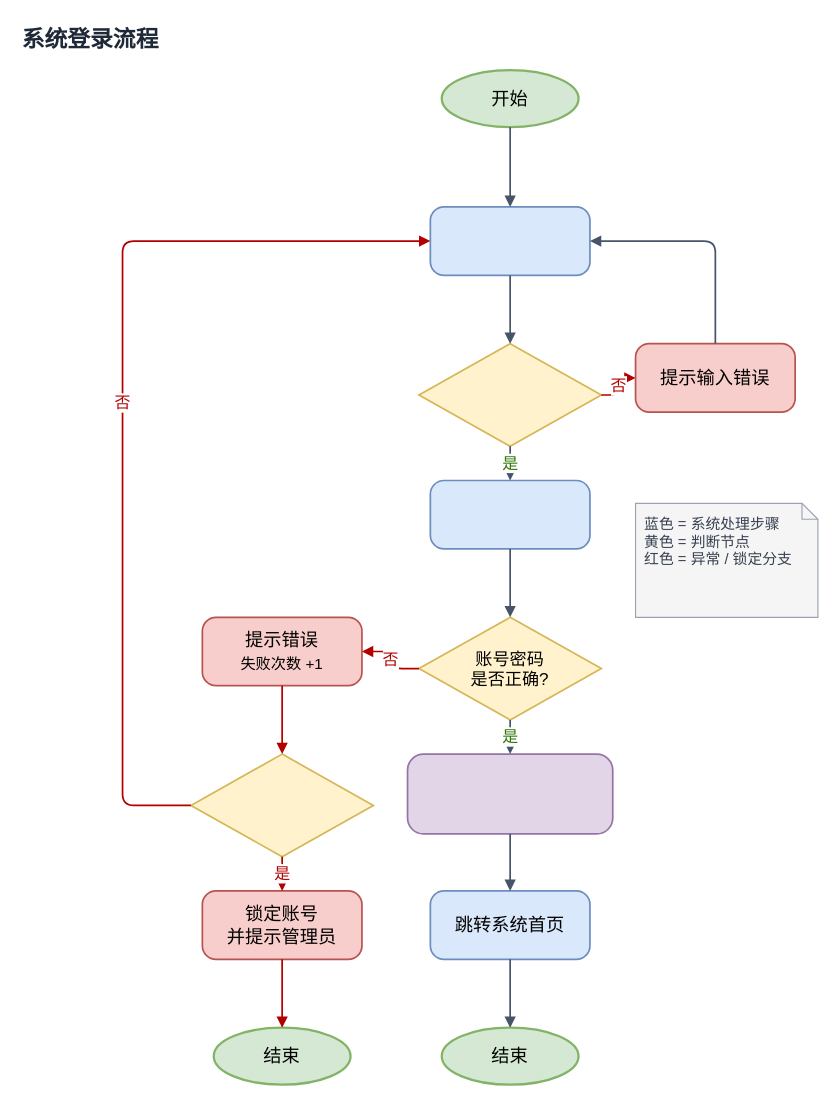
Some shapes in this 838 by 1105 pixel diagram are drawn without their labels. The shapes that lost their labels are listed below. From the top down, each one's centre as x and y in pixels, then its label:
the point at 509,241: 打开登录页 输入账号密码
the point at 510,394: 输入是否 合法?
the point at 509,514: 提交登录请求 HTTPS 加密
the point at 282,805: 失败次数 ≥ 5 ?
the point at 509,793: 生成会话 Token 记录登录日志
